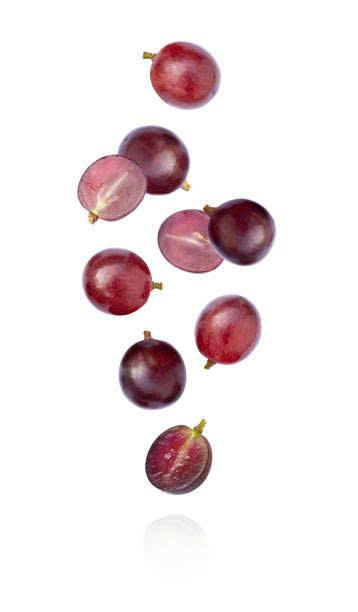grape: (140, 412, 222, 509), (111, 326, 193, 413), (77, 242, 169, 317), (140, 30, 228, 108), (191, 287, 263, 375), (208, 190, 280, 268), (121, 119, 191, 197), (78, 152, 148, 224), (159, 208, 221, 274)
